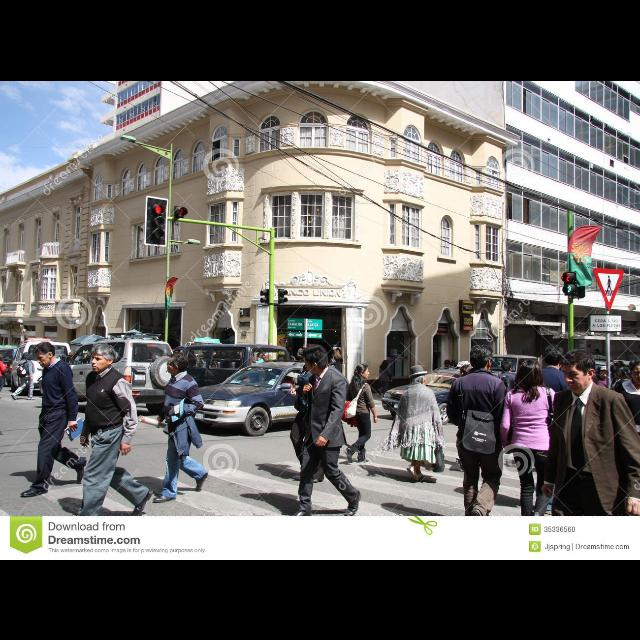head: (562, 350, 596, 394), (90, 342, 116, 372), (303, 345, 327, 375), (518, 358, 542, 386), (34, 340, 56, 368), (307, 345, 329, 369), (471, 346, 493, 370), (546, 344, 566, 370), (166, 352, 188, 372), (356, 363, 372, 379), (412, 371, 428, 387), (460, 364, 472, 380), (502, 360, 512, 372), (614, 367, 626, 377), (600, 366, 608, 376), (24, 352, 32, 360), (445, 359, 451, 366), (382, 360, 388, 366), (290, 356, 296, 362), (0, 355, 4, 361), (302, 344, 308, 348)
person: (72, 340, 156, 542), (283, 342, 365, 526), (445, 343, 509, 541), (497, 356, 559, 542), (17, 340, 89, 500), (150, 349, 212, 503), (378, 363, 448, 483), (288, 342, 338, 484), (536, 342, 576, 476), (340, 361, 380, 465), (456, 364, 482, 464), (609, 363, 635, 451), (494, 359, 520, 441), (9, 351, 37, 402), (594, 364, 614, 426), (377, 358, 393, 398), (286, 354, 300, 394), (297, 342, 311, 381), (441, 357, 453, 395), (0, 352, 8, 400)
